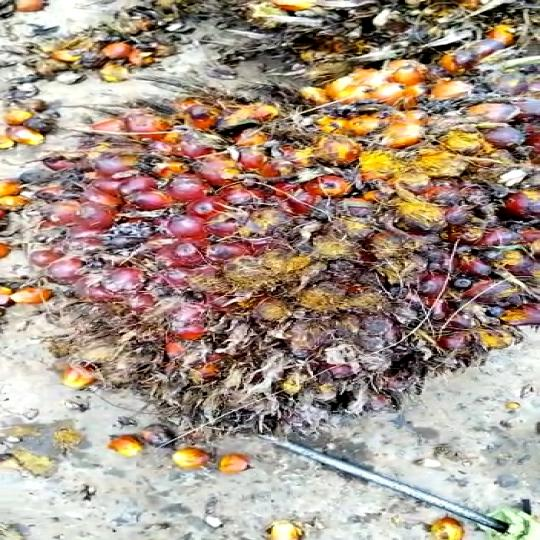masak: (0, 76, 540, 445)
